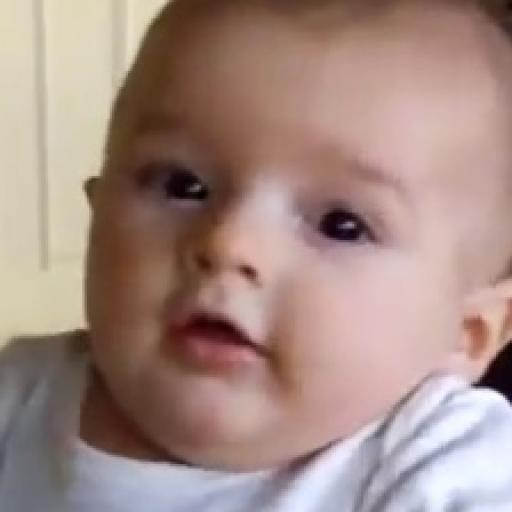Autism: (75, 2, 512, 480)
